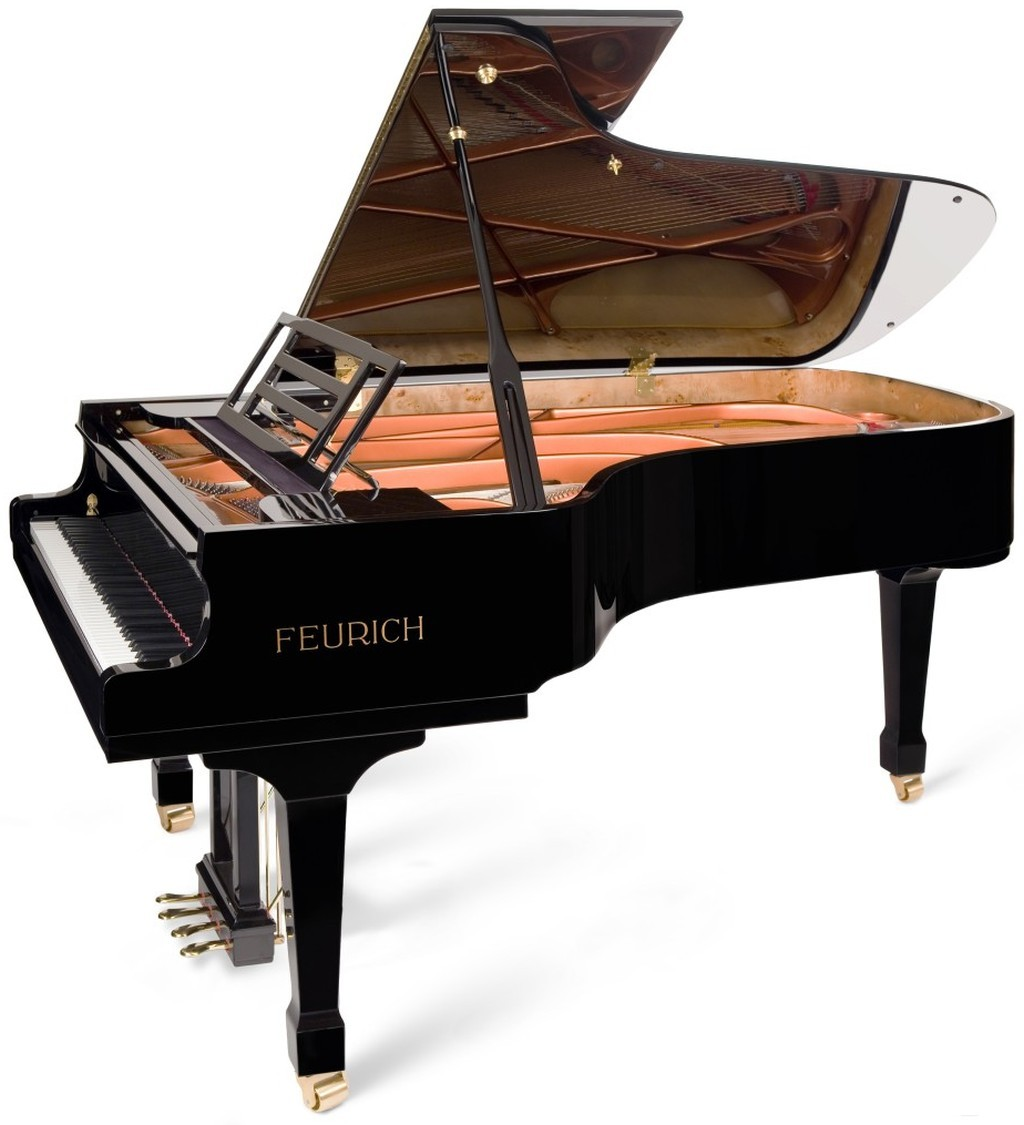GrandPiano: (55, 44, 1024, 1040)
